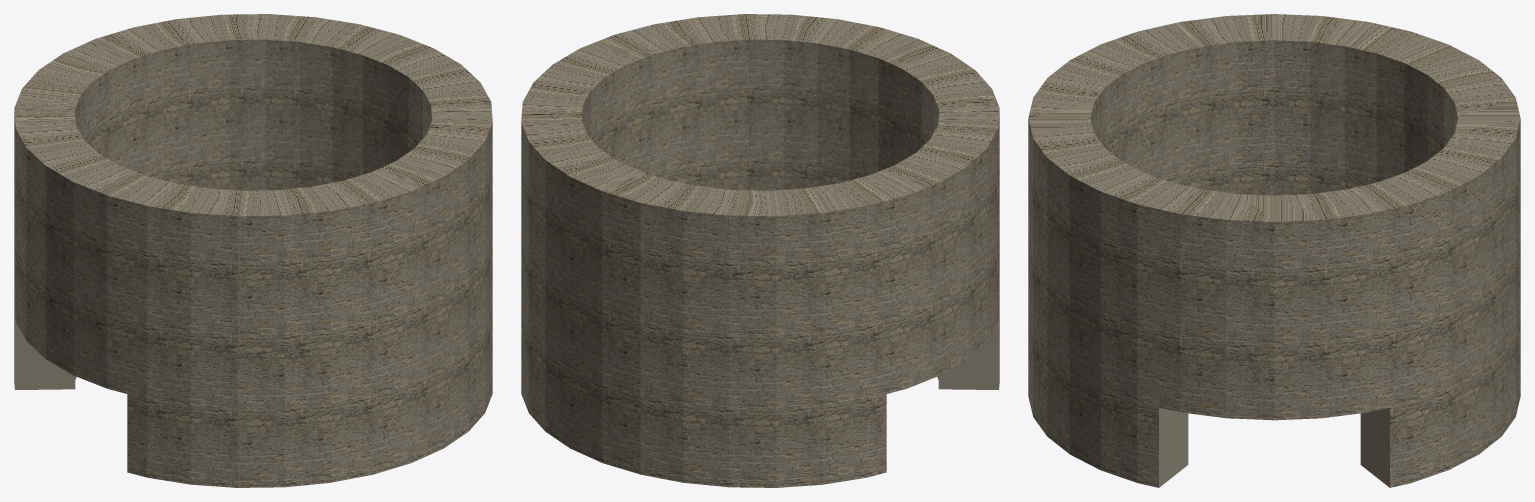
The model's file is walls.glb.
3 renders of one model, left to right at view 1: azimuth 30°, elevation 25°; view 2: azimuth 150°, elevation 25°; view 3: azimuth 270°, elevation 25°, orthographic. The views are drawn at different scales.
Visible parts, largest first — view 1: walls.001; view 2: walls.001; view 3: walls.001.
Boxes of the visible parts, x1,y1,x2,y2 form: walls.001: [14, 14, 492, 487]; walls.001: [521, 14, 999, 487]; walls.001: [1028, 14, 1520, 487].
Bounding box in the file's own units: 400 × 250 × 400.
1 material, 1 textured.
